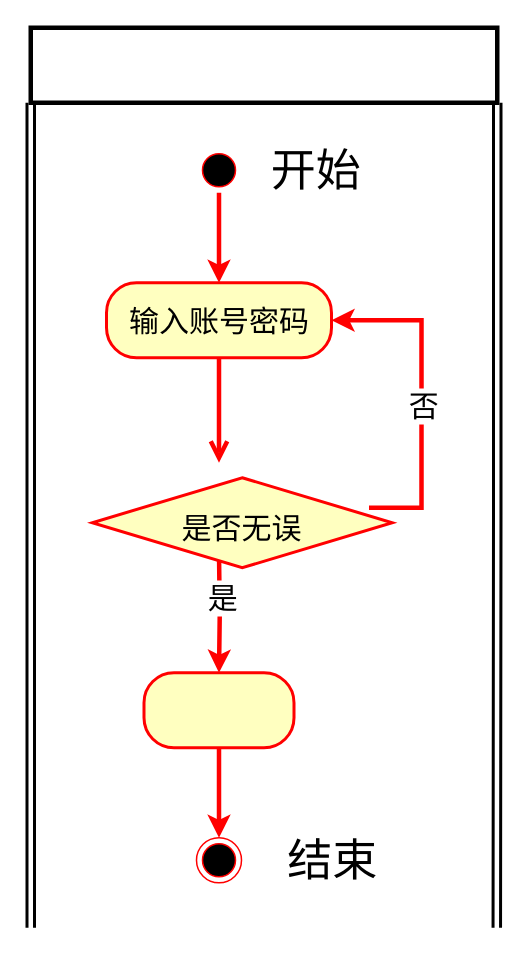
Some shapes in this 528 by 956 pixel diagram are drawn without their labels. Each missing label, with the centre of its shape:
"数据匹配" belongs at (x=218, y=709).
"用户" belongs at (x=263, y=64).
